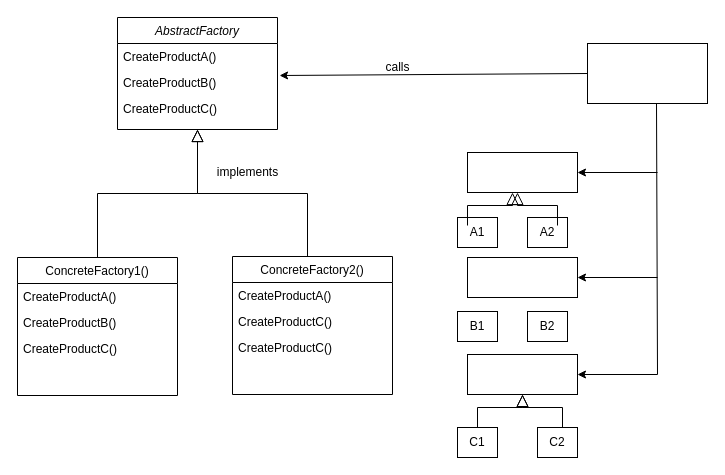
Image size: 725x475. Some labels were removed from this diagram. The centre of each missing label's shape, as x and y in pixels:
AbstractProductA: the point at 522,172
AbstractProductB: the point at 522,277
AbstractProductC: the point at 522,374
Client: the point at 647,73
